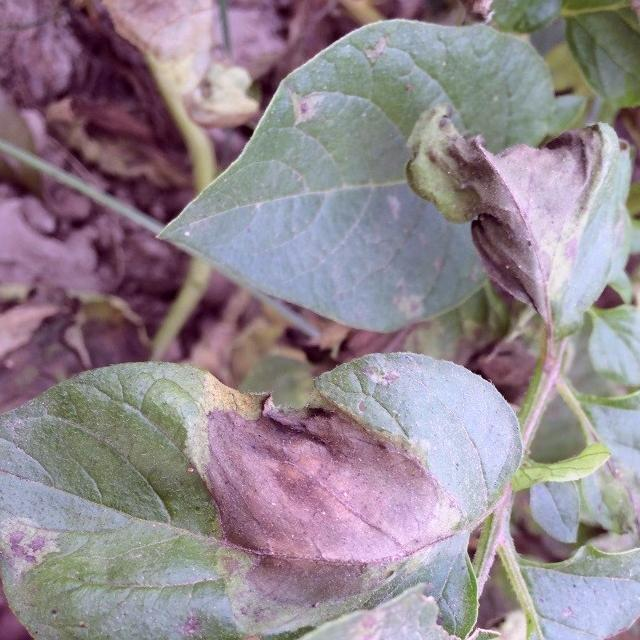Tomato leaf late blight: (165, 337, 546, 578), (414, 111, 640, 344)
